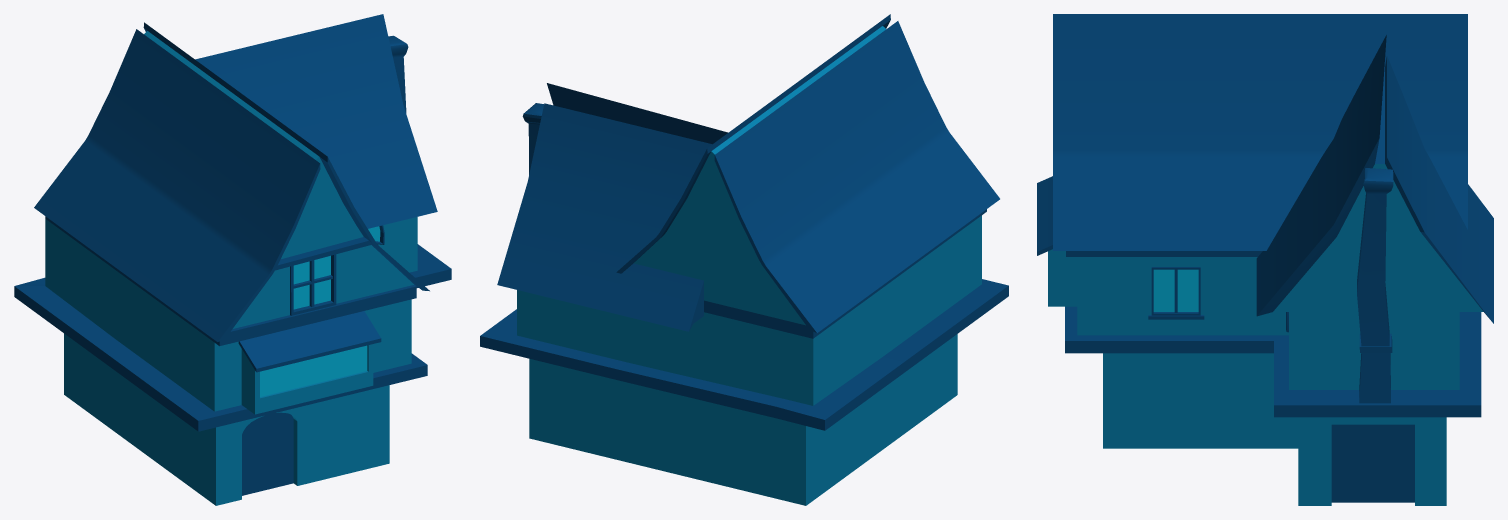
Rendered from townHouseVar2_v01.fbx.
3 renders of one model, left to right at view 1: azimuth 30°, elevation 25°; view 2: azimuth 150°, elevation 25°; view 3: azimuth 270°, elevation 25°, orthographic. The views are drawn at different scales.
Visible parts, largest first — view 1: pCube2, pCube1, pCube3, pCube4; view 2: pCube1, pCube2, pCube3, pCube4; view 3: pCube2, pCube1, pCube3, pCube4.
Part boxes in pixels (x1,y1,x2,y2): pCube2: [34, 22, 429, 346]; pCube1: [14, 217, 451, 505]; pCube3: [195, 14, 437, 228]; pCube4: [388, 35, 408, 113]; pCube1: [480, 215, 1008, 505]; pCube2: [616, 14, 999, 338]; pCube3: [497, 83, 727, 331]; pCube4: [522, 103, 543, 174]; pCube2: [1053, 14, 1467, 256]; pCube1: [1037, 176, 1481, 505]; pCube3: [1256, 35, 1493, 323]; pCube4: [1357, 168, 1393, 403].
Size of the model in its own units: 188 by 178 by 190.
